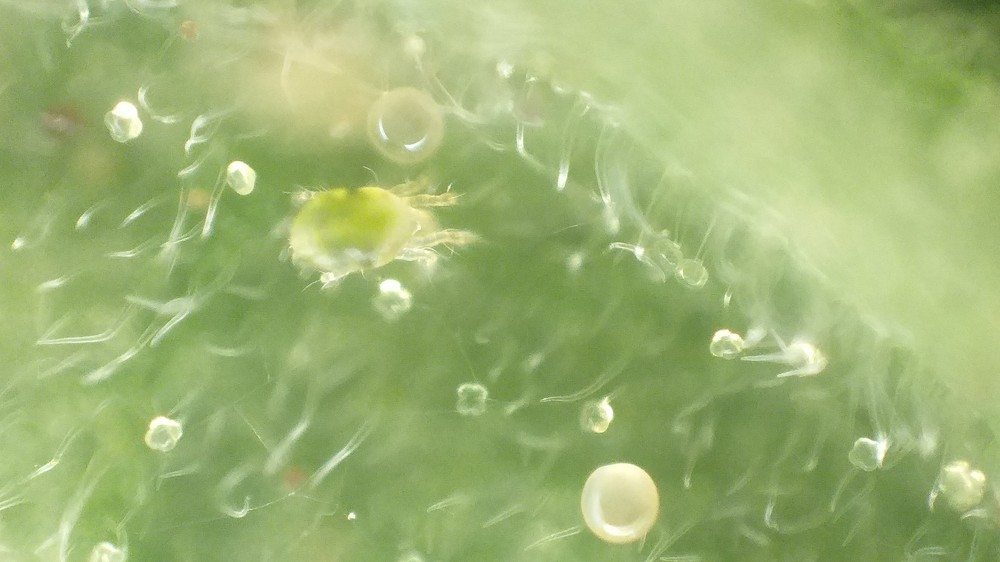Aracnido Rojo: (244, 151, 515, 290)
